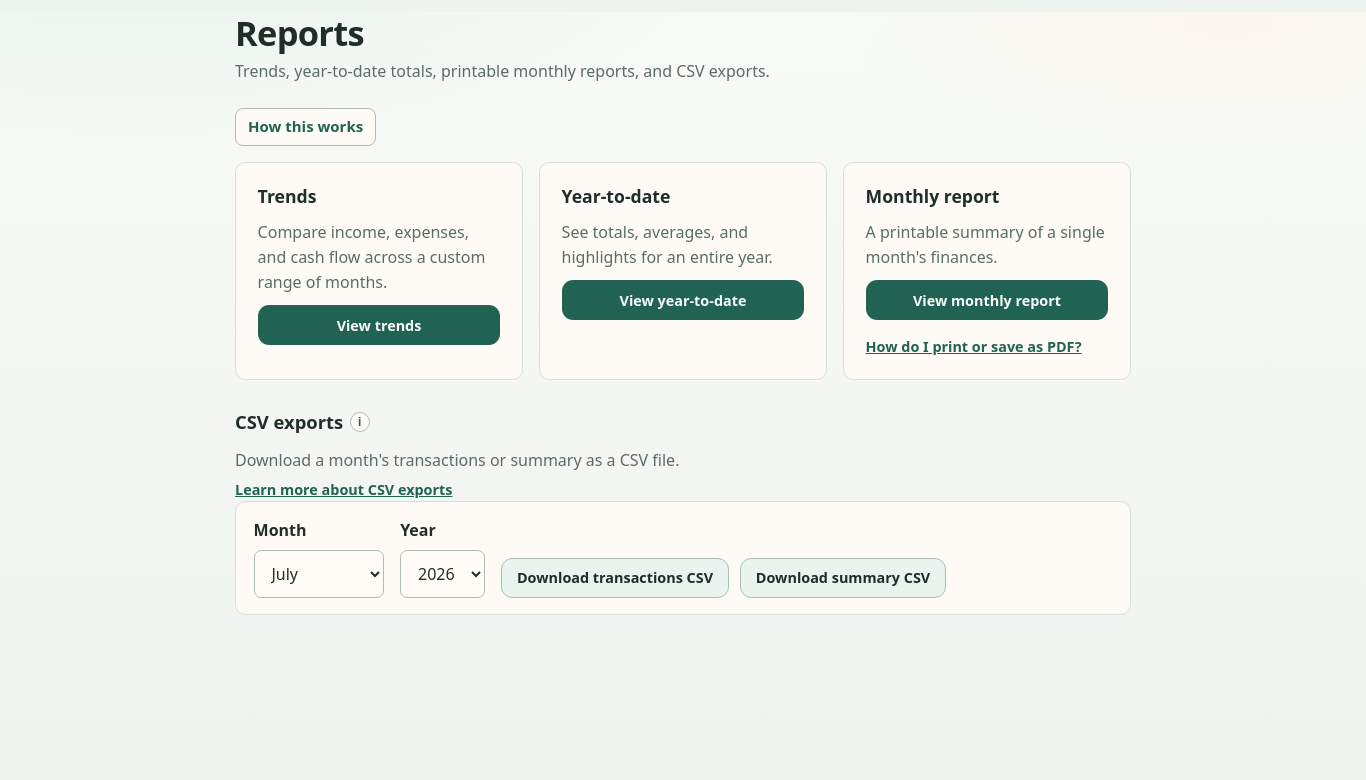
it: ReportsPage › shows an error message when the export fails
Click the button "Download transactions CSV": (615, 578) [501,558,729,598]
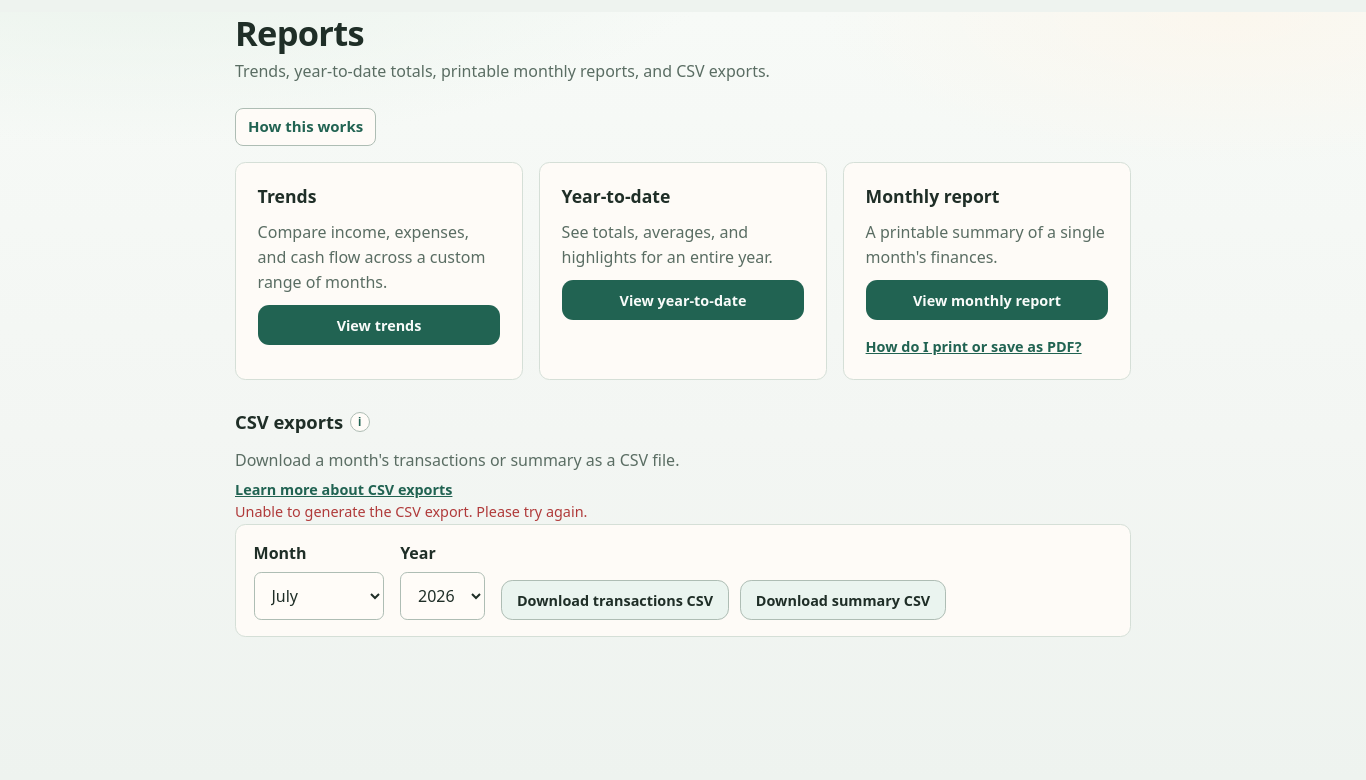
Check: the text "Unable to generate the CSV export. Please try again." is shown, box [235,502,587,521]
